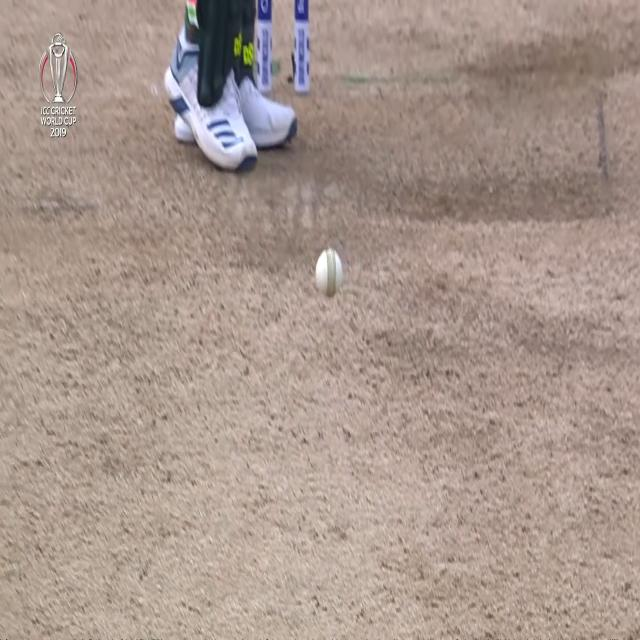Cricket ball: (314, 244, 346, 302)
